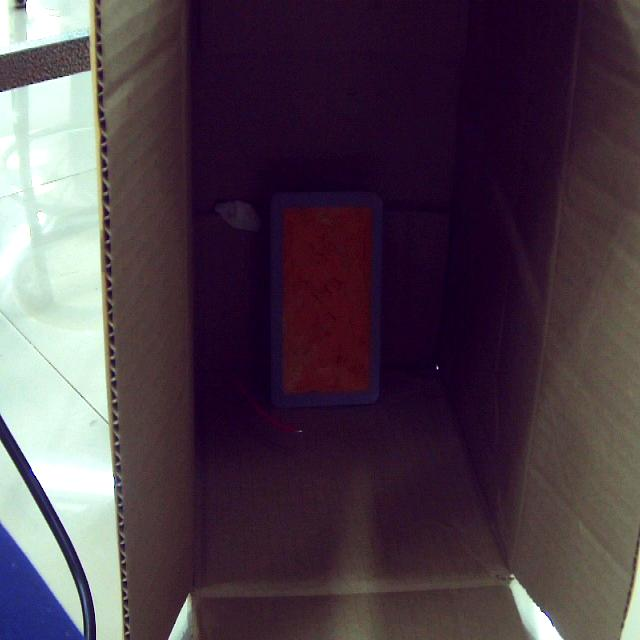block: (268, 190, 384, 412)
